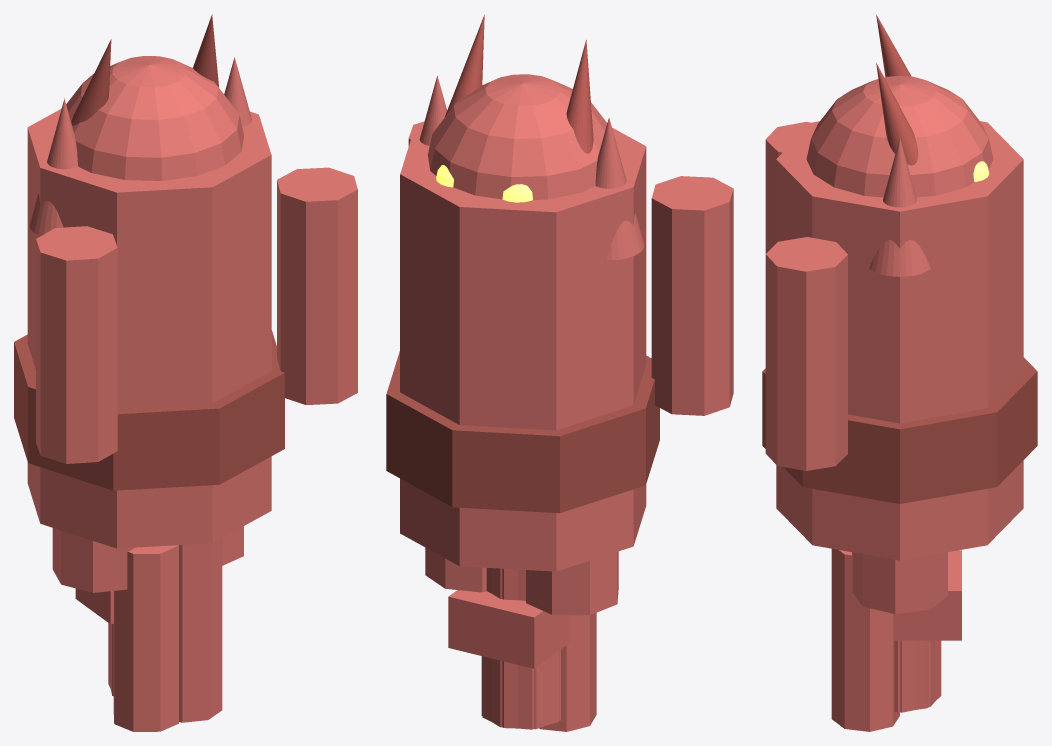
File: enemy_knee_oni.glb
3 views of the same model, side by side, from view 1: azimuth 30°, elevation 25°; view 2: azimuth 150°, elevation 25°; view 3: azimuth 270°, elevation 25° (orthographic). The views are drawn at different scales.
Visible parts, largest first — view 1: torso, upper_arm_l, upper_arm_r, belt, head, forearm_r, forearm_l, thigh_l, ear_l, horn_l, horn_r, ear_r (+2 smaller); view 2: torso, belt, upper_arm_l, head, foot_l, thigh_l, forearm_r, shin_l, shin_r, ear_l, horn_l, thigh_r (+2 smaller); view 3: torso, upper_arm_r, belt, head, forearm_l, thigh_r, foot_l, ear_r, upper_arm_l, shin_r, horn_r, shin_l (+1 smaller).
Boxes of the visible parts, left/top/right/bottom form: torso: left=27, top=108, right=271, bottom=548; upper_arm_l: left=36, top=226, right=117, bottom=463; upper_arm_r: left=277, top=167, right=357, bottom=404; belt: left=14, top=330, right=284, bottom=490; head: left=66, top=56, right=243, bottom=180; forearm_r: left=113, top=545, right=178, bottom=731; forearm_l: left=179, top=538, right=222, bottom=722; thigh_l: left=52, top=528, right=134, bottom=592; ear_l: left=29, top=98, right=77, bottom=235; horn_l: left=71, top=39, right=111, bottom=125; horn_r: left=193, top=14, right=218, bottom=87; ear_r: left=224, top=57, right=251, bottom=126; torso: left=400, top=127, right=646, bottom=571; belt: left=386, top=351, right=659, bottom=513; upper_arm_l: left=651, top=176, right=733, bottom=415; head: left=428, top=74, right=607, bottom=199; foot_l: left=448, top=590, right=569, bottom=668; thigh_l: left=526, top=551, right=618, bottom=615; forearm_r: left=539, top=613, right=596, bottom=731; shin_l: left=482, top=568, right=561, bottom=729; shin_r: left=481, top=568, right=559, bottom=729; ear_l: left=595, top=117, right=644, bottom=260; horn_l: left=566, top=40, right=593, bottom=153; thigh_r: left=425, top=547, right=486, bottom=592; torso: left=776, top=121, right=1023, bottom=560; upper_arm_r: left=765, top=237, right=847, bottom=470; belt: left=762, top=357, right=1037, bottom=503; head: left=806, top=75, right=993, bottom=197; forearm_l: left=831, top=548, right=899, bottom=731; thigh_r: left=852, top=552, right=947, bottom=613; foot_l: left=893, top=550, right=961, bottom=640; ear_r: left=869, top=138, right=930, bottom=276; upper_arm_l: left=765, top=121, right=811, bottom=253; shin_r: left=894, top=640, right=941, bottom=712; horn_r: left=876, top=63, right=918, bottom=165; shin_l: left=900, top=640, right=935, bottom=712.
Bounding box in the file's own units: 0.5161 × 1.07 × 0.4.
